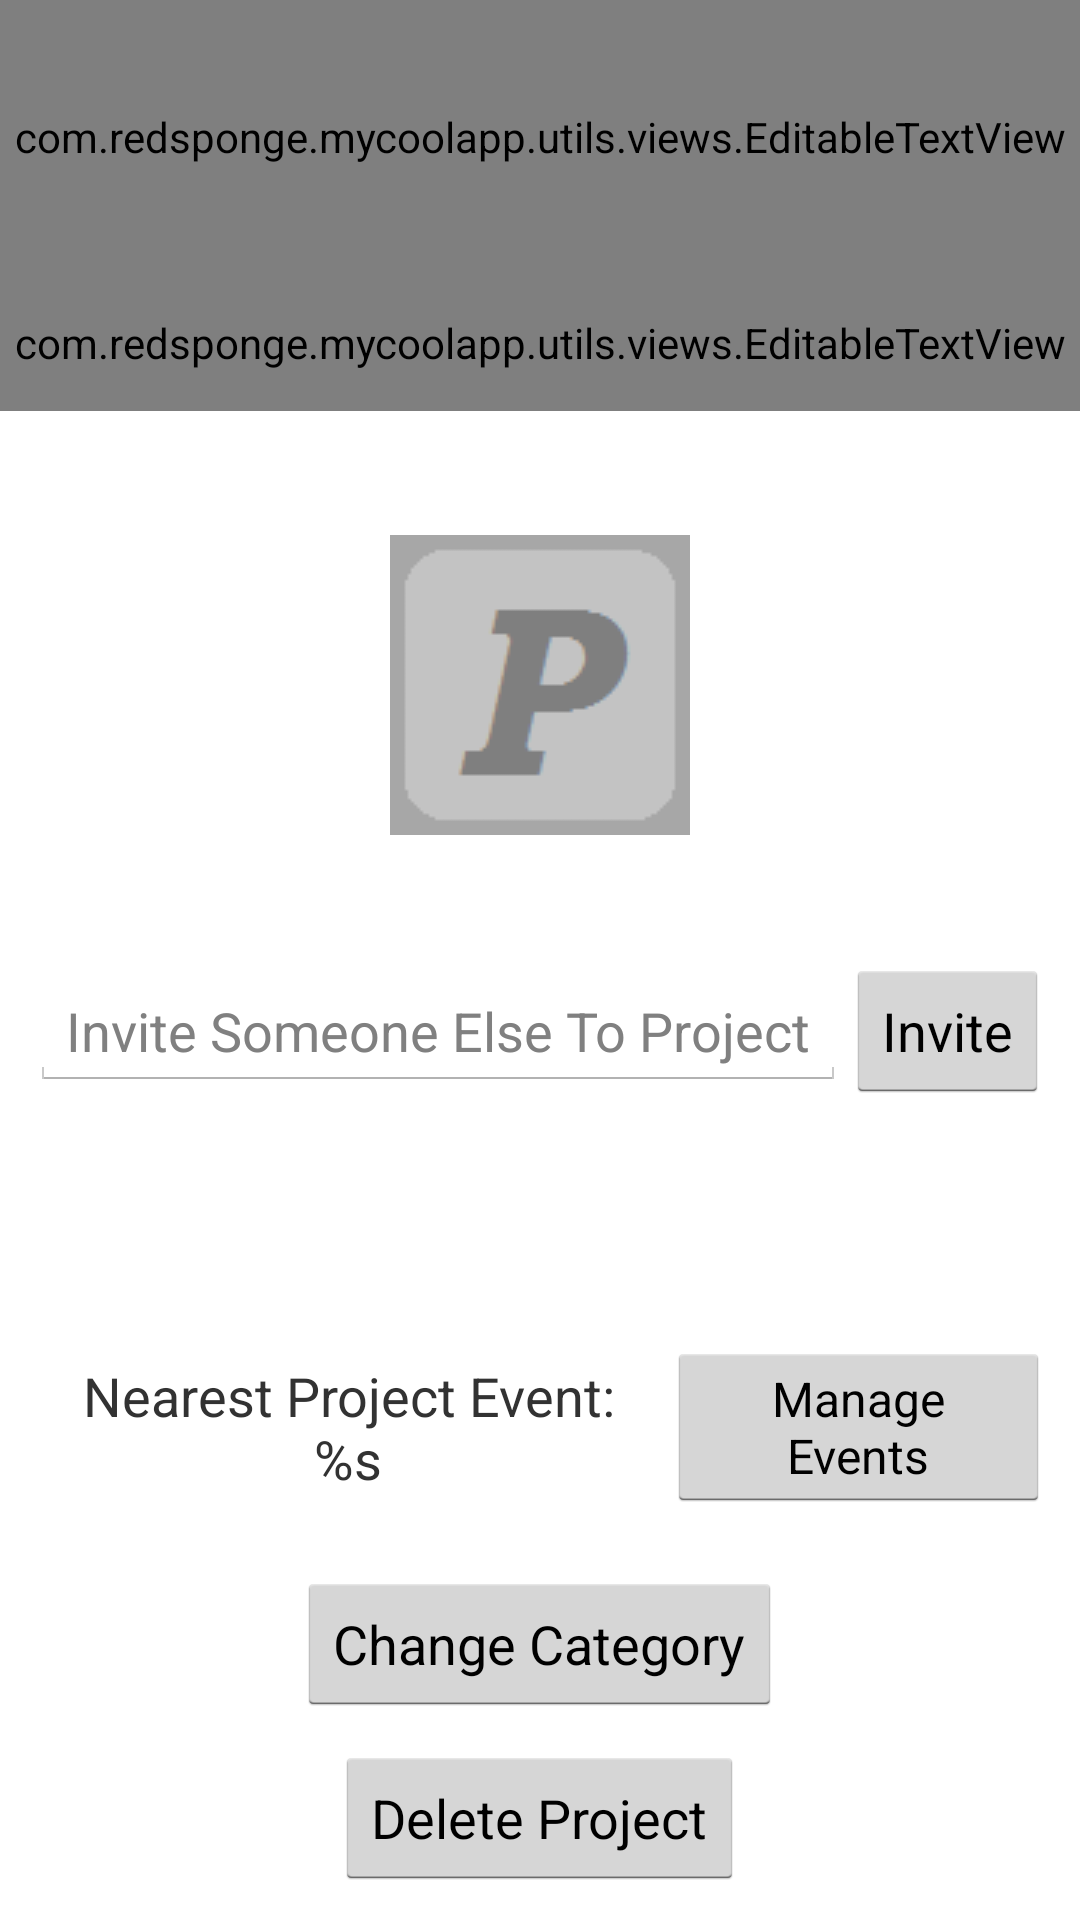

Where icons sit on this 1080px×1920px app screen, as (x1, y1, x2, y2):
project pic: (390, 535, 690, 835)
